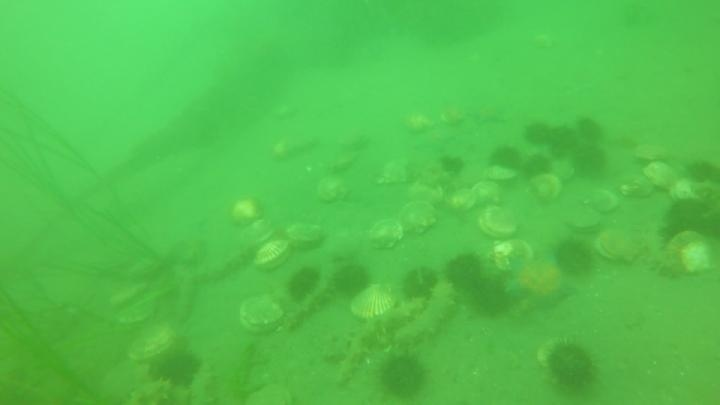echinus: (540, 338, 600, 393), (376, 349, 438, 401), (659, 194, 717, 247), (149, 347, 203, 388), (467, 274, 513, 319), (552, 237, 597, 280), (443, 251, 486, 293), (399, 264, 441, 303), (331, 262, 373, 300), (284, 265, 323, 304), (571, 143, 609, 178), (545, 122, 580, 158), (488, 143, 524, 174), (522, 119, 558, 150), (683, 157, 719, 188), (520, 151, 554, 181), (573, 115, 606, 145), (437, 153, 467, 178)
holothurian: (338, 292, 426, 386), (396, 275, 462, 345), (194, 240, 258, 286), (284, 284, 336, 332), (127, 378, 194, 405), (187, 361, 220, 405)
scallop: (661, 230, 717, 280), (106, 281, 162, 328), (126, 321, 178, 366), (593, 225, 646, 266), (348, 283, 401, 323), (236, 294, 286, 336), (532, 331, 583, 370), (395, 199, 440, 238), (489, 237, 535, 275), (476, 204, 521, 242), (282, 220, 327, 253), (252, 237, 293, 273), (366, 217, 406, 251), (641, 160, 681, 193), (467, 179, 504, 212), (528, 172, 564, 205), (563, 207, 604, 235), (404, 181, 445, 209), (376, 157, 413, 188), (246, 382, 294, 405), (617, 172, 655, 201), (229, 197, 263, 228), (668, 177, 705, 205), (314, 176, 348, 206), (585, 188, 620, 217), (445, 186, 481, 214), (399, 109, 436, 136), (243, 218, 276, 245), (547, 157, 577, 186), (633, 142, 669, 165), (483, 164, 518, 186), (329, 152, 361, 172), (529, 32, 558, 52), (437, 107, 467, 126)
starfish: (507, 258, 582, 318), (466, 100, 509, 127)
